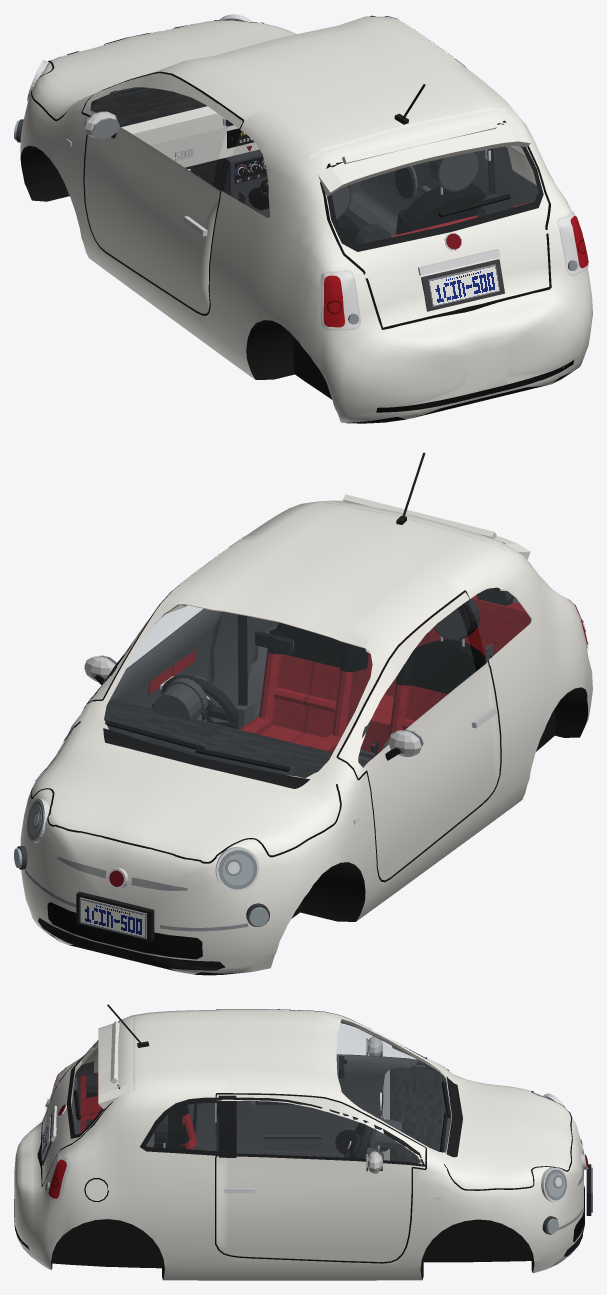
The model's file is sport.glb.
3 renders of one model, top to bottom at view 1: azimuth 30°, elevation 25°; view 2: azimuth 150°, elevation 25°; view 3: azimuth 270°, elevation 25°, orthographic. The views are drawn at different scales.
Visible parts, largest first — view 1: Body, Door_L, Interior, Glass, Door_L_Glass, Door_R, Lights_Tail; view 2: Body, Glass, Interior, Door_L, Door_L_Glass, Door_R, Lights_Head, SteeringWheel; view 3: Body, Door_R, Glass, Door_L, Interior, Door_R_Glass, SteeringWheel, Lights_Head, Lights_Tail.
Part boxes in pixels (x1,y1,x2,y2): Body: (16, 14, 592, 423); Door_L: (82, 73, 242, 313); Interior: (94, 88, 534, 244); Glass: (224, 132, 537, 244); Door_L_Glass: (91, 88, 230, 184); Door_R: (379, 150, 489, 201); Lights_Tail: (323, 216, 588, 327); Body: (17, 452, 592, 975); Glass: (104, 588, 530, 777); Interior: (104, 587, 530, 778); Door_L: (338, 592, 500, 880); Door_L_Glass: (359, 609, 475, 766); Door_R: (83, 571, 222, 721); Lights_Head: (14, 804, 268, 926); SteeringWheel: (161, 675, 238, 729); Body: (14, 1004, 592, 1280); Door_R: (216, 1094, 425, 1261); Glass: (72, 1021, 450, 1151); Door_L: (216, 1021, 425, 1154); Interior: (72, 1055, 441, 1244); Door_R_Glass: (237, 1101, 419, 1162); SteeringWheel: (344, 1122, 372, 1158); Lights_Head: (546, 1172, 564, 1233); Lights_Tail: (48, 1070, 66, 1198).
Bounding box in the file's own units: 1.88 × 1.56 × 3.6.
Materials: 41 (14 with a texture image).
